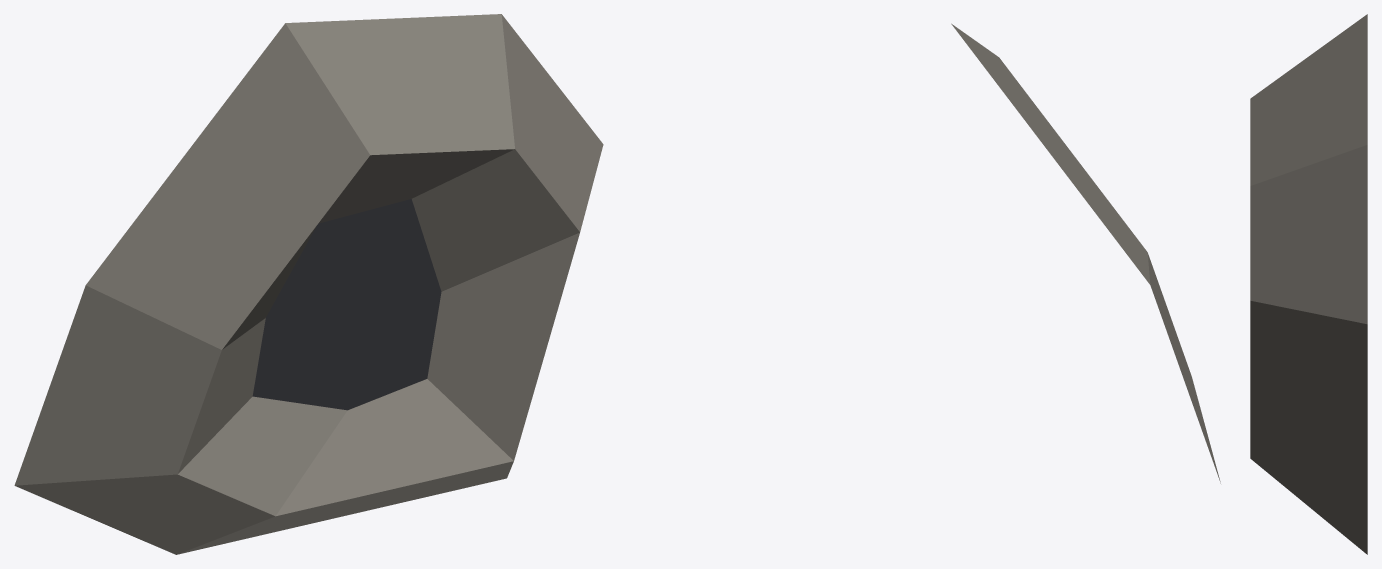
The model's file is SM_Bullet_Hole_A.gltf.
3 views of the same model, side by side, from view 1: azimuth 30°, elevation 25°; view 2: azimuth 150°, elevation 25°; view 3: azimuth 270°, elevation 25° (orthographic). The views are drawn at different scales.
Visible parts, largest first — view 1: SM_Bullet_Hole_A; view 2: SM_Bullet_Hole_A; view 3: SM_Bullet_Hole_A.
Boxes of the visible parts, <box> form: SM_Bullet_Hole_A: <box>14,14,603,554</box>; SM_Bullet_Hole_A: <box>951,23,1220,483</box>; SM_Bullet_Hole_A: <box>1250,14,1367,554</box>.
Bounding box in the file's own units: 0.2454 × 0.2028 × 0.0482.
Materials: 1 (1 with a texture image).
